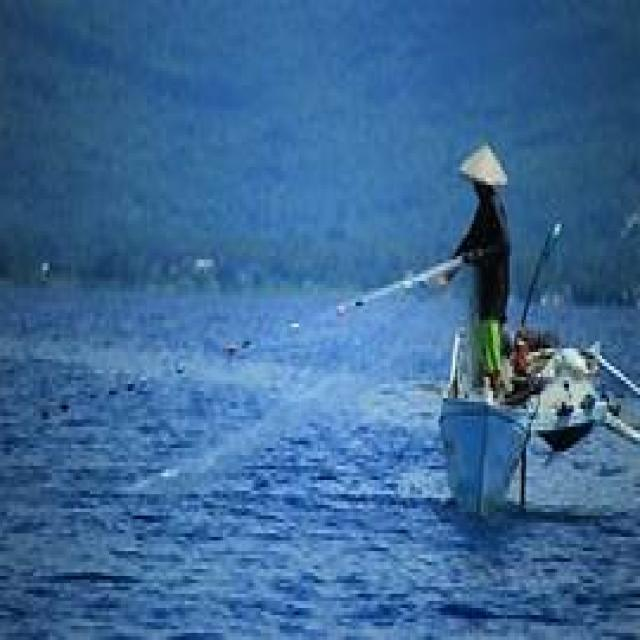Fishing Boat: (260, 102, 609, 501)
